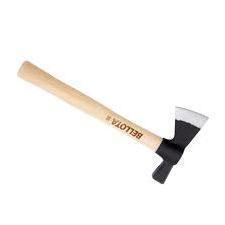machado: (19, 61, 207, 183)
